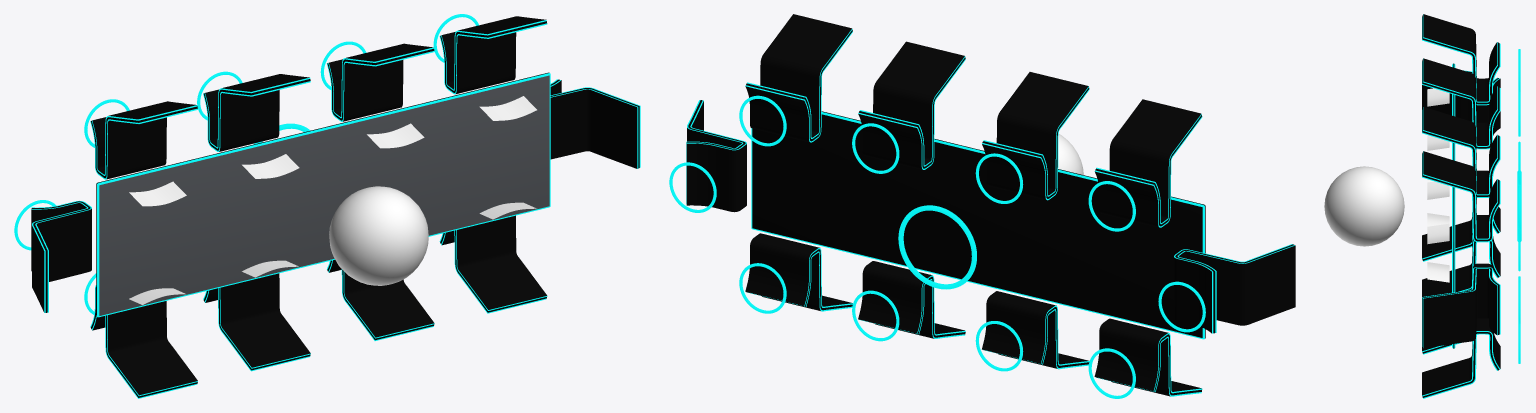
The model's file is Sci Fi Conference_Fbx.fbx.
The picture shows the model from 3 angles, left to right: view 1: azimuth 30°, elevation 25°; view 2: azimuth 150°, elevation 25°; view 3: azimuth 270°, elevation 25°; orthographic projection. The views are drawn at different scales.
Visible parts, largest first — view 1: Chair_2, Table, Earth, Hud; view 2: Chair_2, Table, Earth; view 3: Chair_2, Earth, Hud, Table.
Boxes of the visible parts, x1,y1,x2,y2 form: Chair_2: (14, 14, 640, 398); Table: (96, 72, 550, 317); Earth: (329, 186, 428, 285); Hud: (129, 96, 536, 304); Chair_2: (669, 14, 1295, 398); Table: (751, 111, 1205, 339); Earth: (1058, 134, 1083, 174); Chair_2: (1422, 14, 1520, 398); Earth: (1324, 166, 1404, 246); Hud: (1427, 88, 1449, 282); Table: (1452, 63, 1521, 348).
Bounding box in the file's own units: 2080 × 932 × 741.
